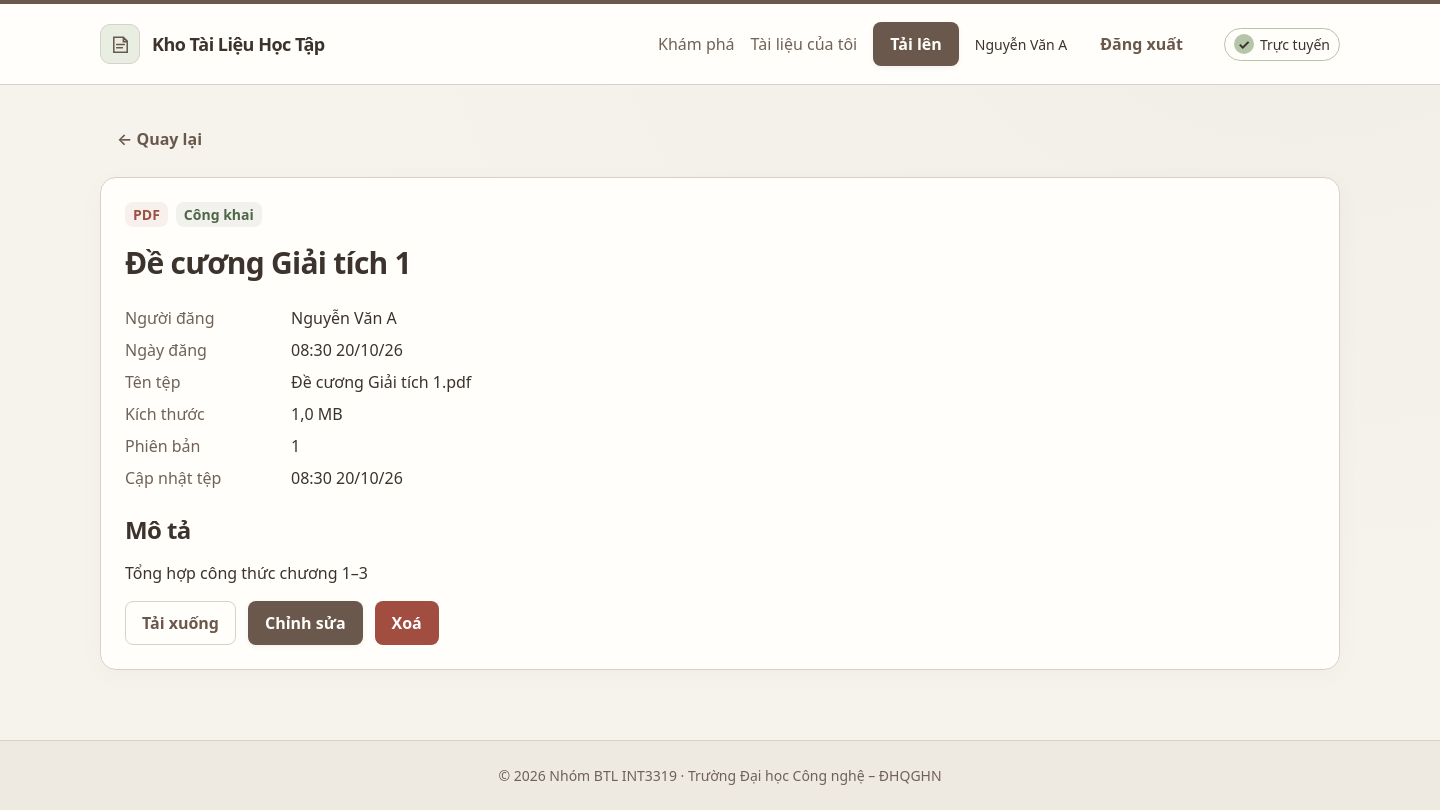
it: upload and document management › requires delete confirmation, focuses cancel, and keeps document on API failure
The width and height of the screenshot is (1440, 810).
Check: the heading "Đề cương Giải tích 1" is shown, box [125,242,411,283]
Click the button "Xoá": [407, 623] box [374,601,439,645]
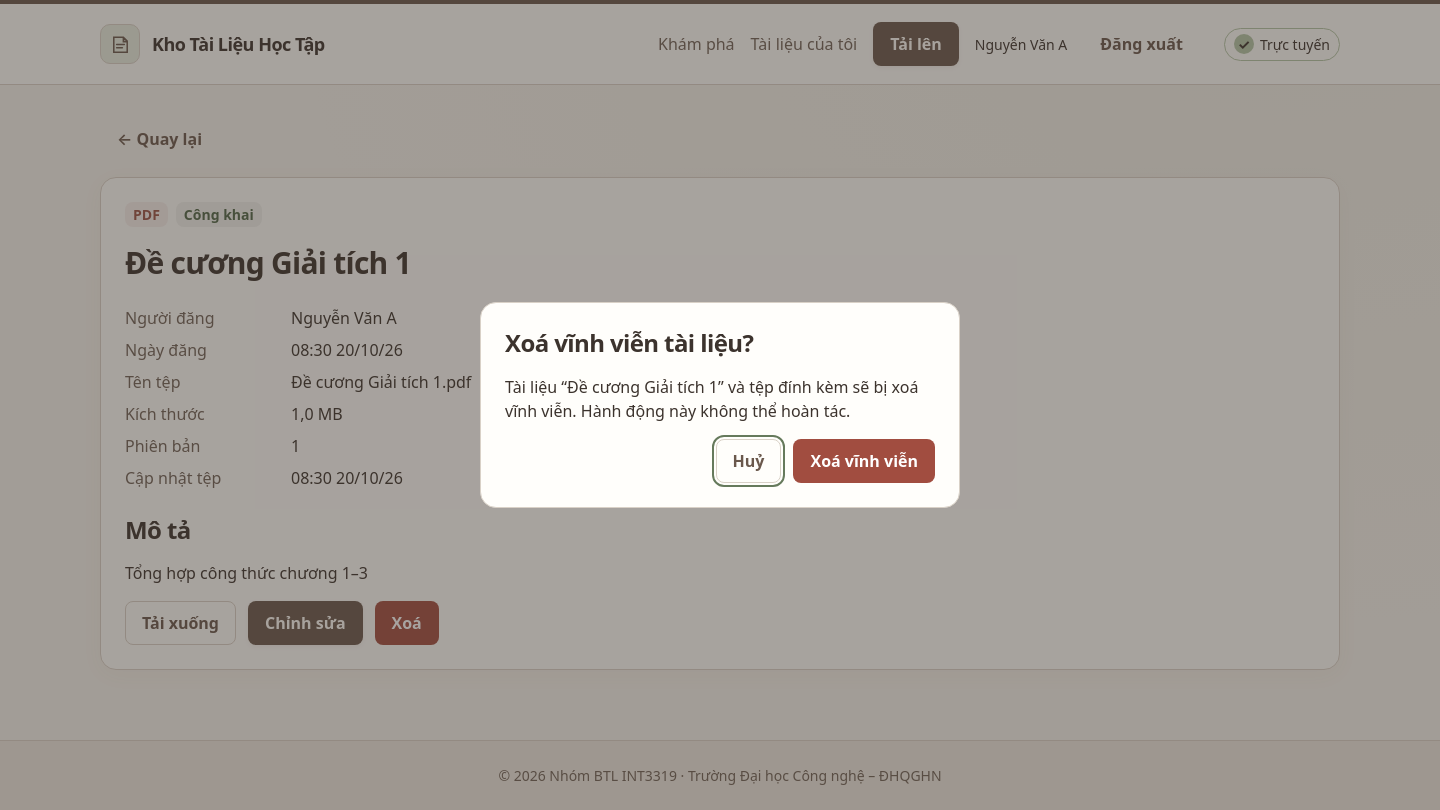
Click the button "Huỷ": [749, 461] box [716,439,782,483]
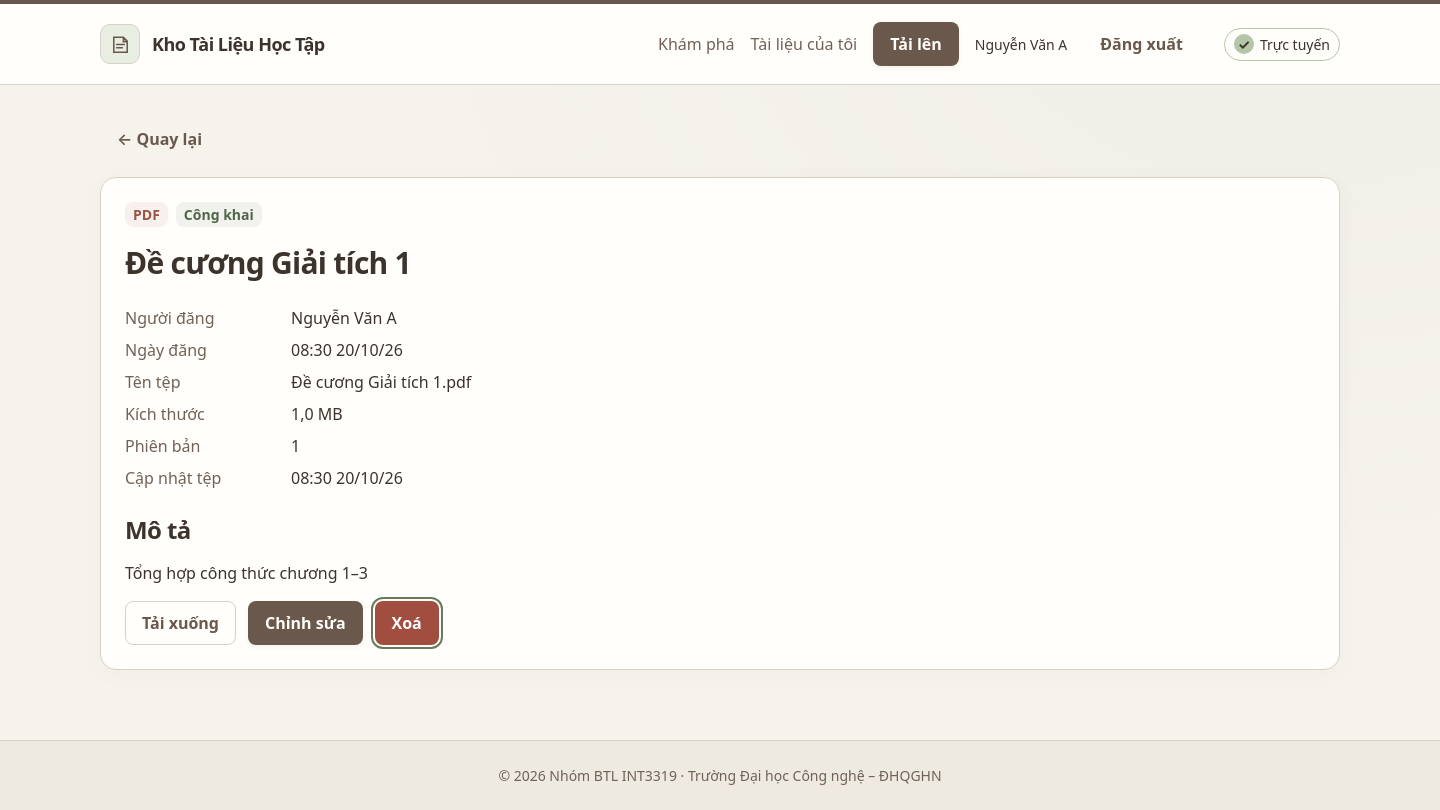
Click the button "Xoá": [407, 623] box [374,601,439,645]
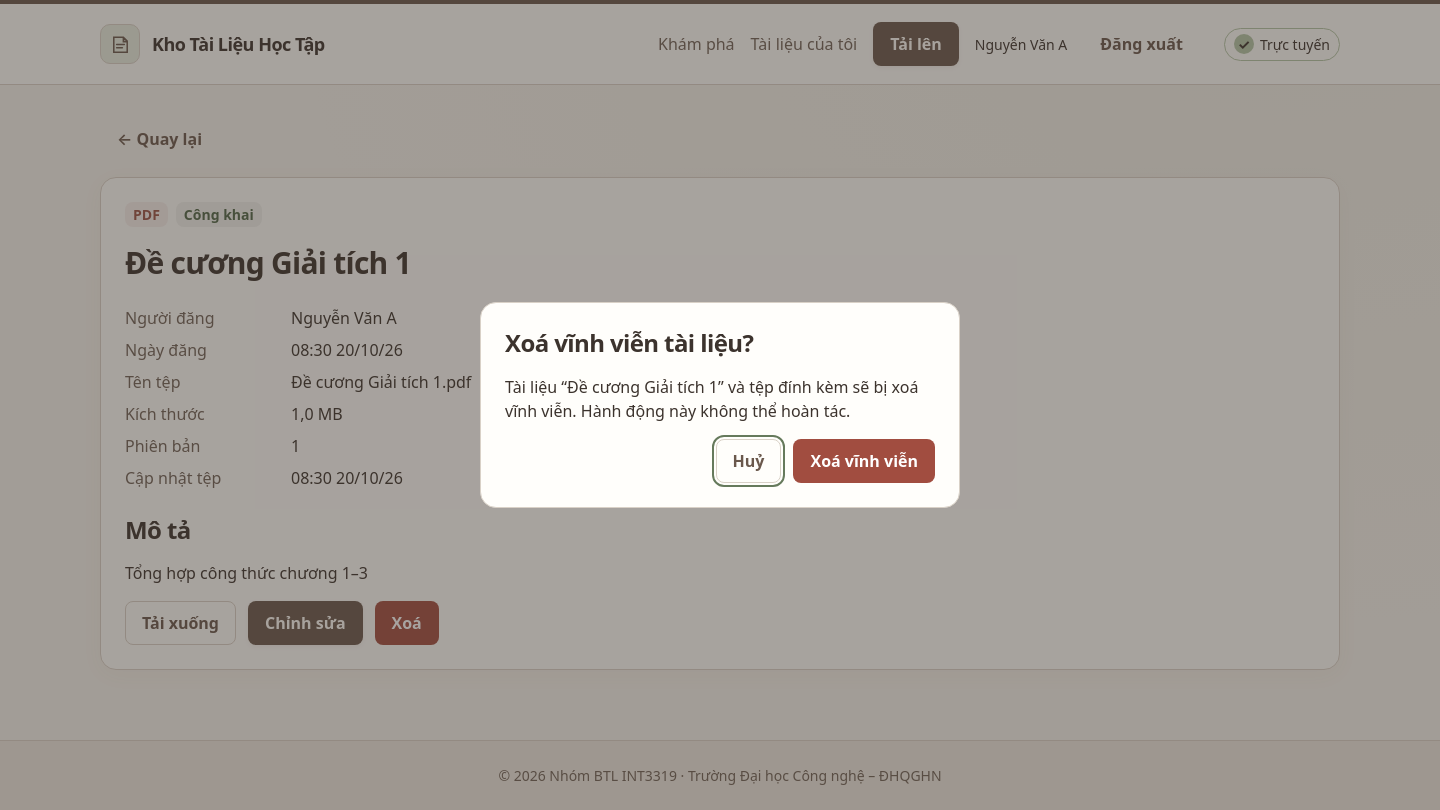
Click the button "Xoá vĩnh viễn": [864, 461] box [794,439,935,483]
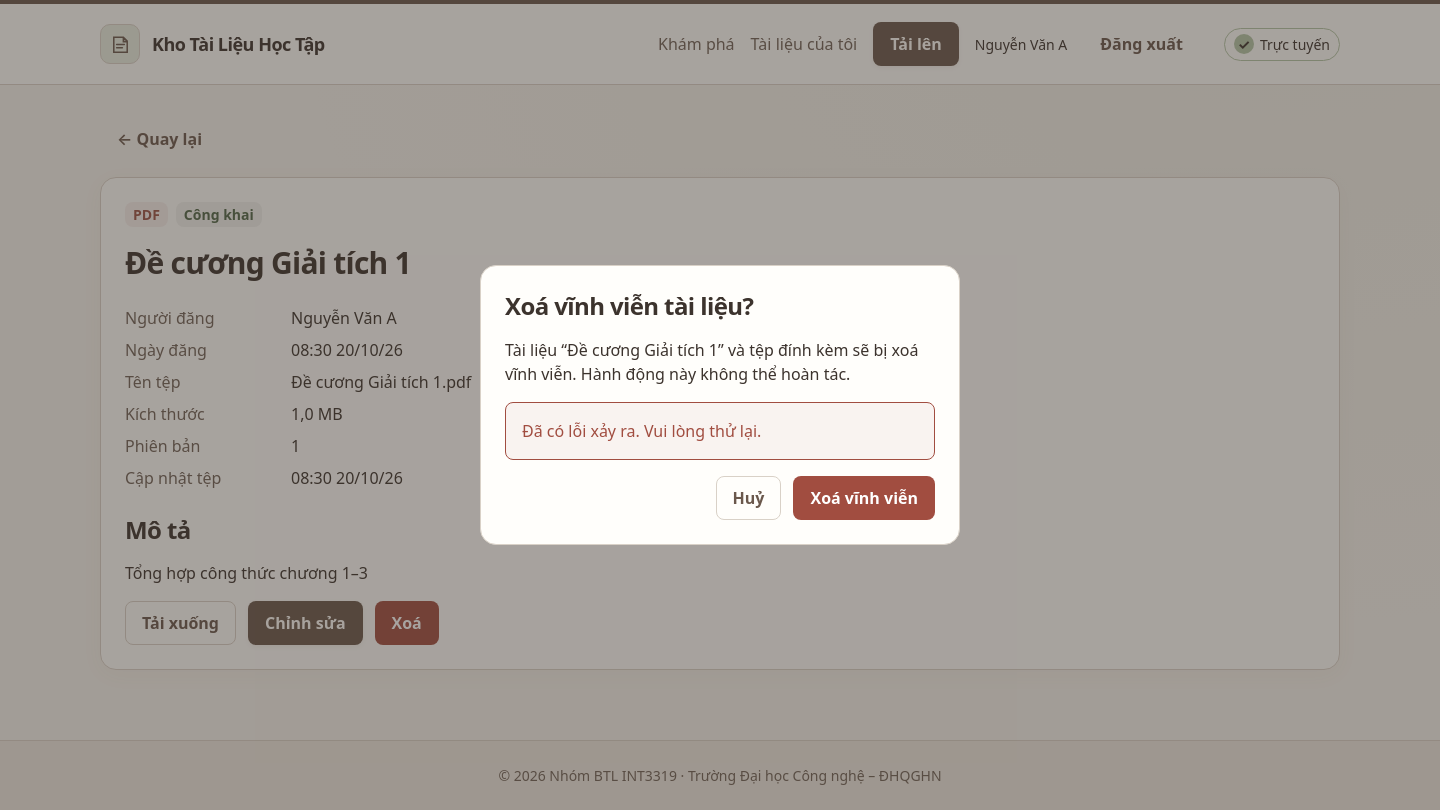
Check: the heading "Đề cương Giải tích 1" is shown, box [125,242,411,283]
Check: the message shows "Đã có lỗi xảy ra.", box [522,420,761,442]
